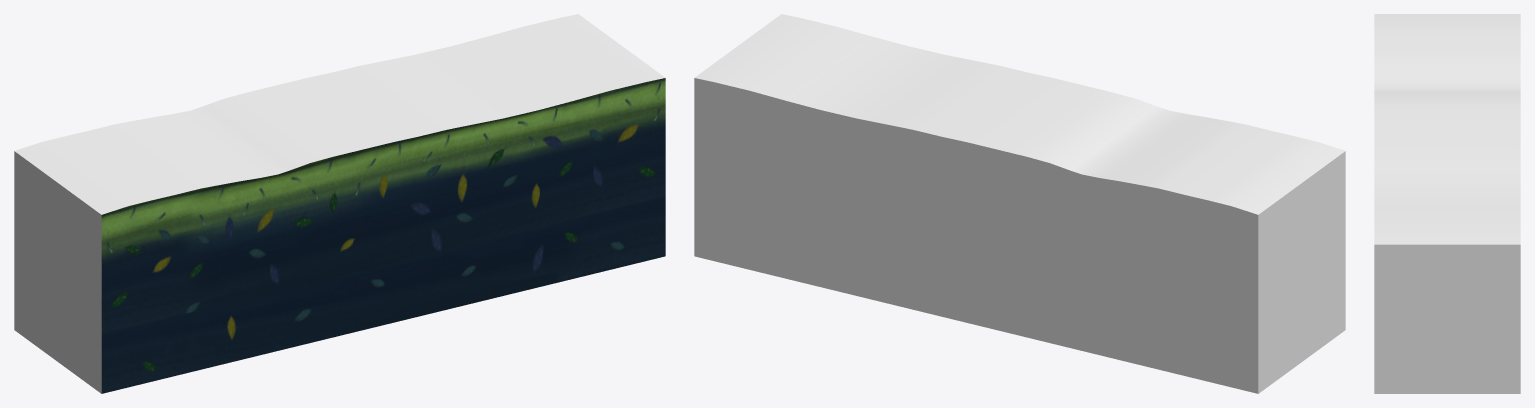
File: Level_01_Terra_01.fbx
The picture shows the model from 3 angles, left to right: view 1: azimuth 30°, elevation 25°; view 2: azimuth 150°, elevation 25°; view 3: azimuth 270°, elevation 25°; orthographic projection. The views are drawn at different scales.
Visible parts, largest first — view 1: Level_01_Terra; view 2: Level_01_Terra; view 3: Level_01_Terra.
Boxes of the visible parts, x1,y1,x2,y2 form: Level_01_Terra: (14,14,665,393); Level_01_Terra: (694,14,1345,393); Level_01_Terra: (1374,14,1520,393).
Bounding box in the file's own units: 20 × 6.14 × 5.36.
